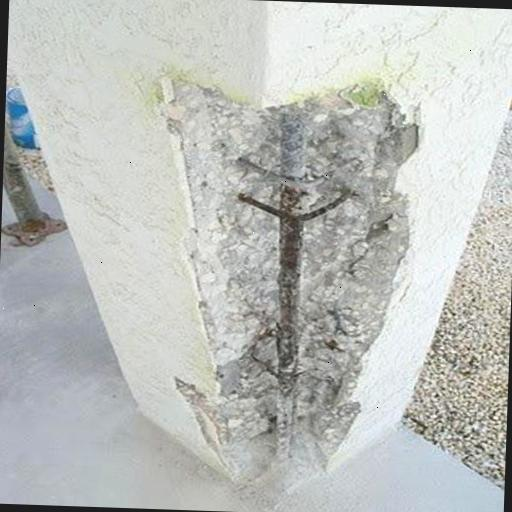spalling: (167, 74, 403, 485)
